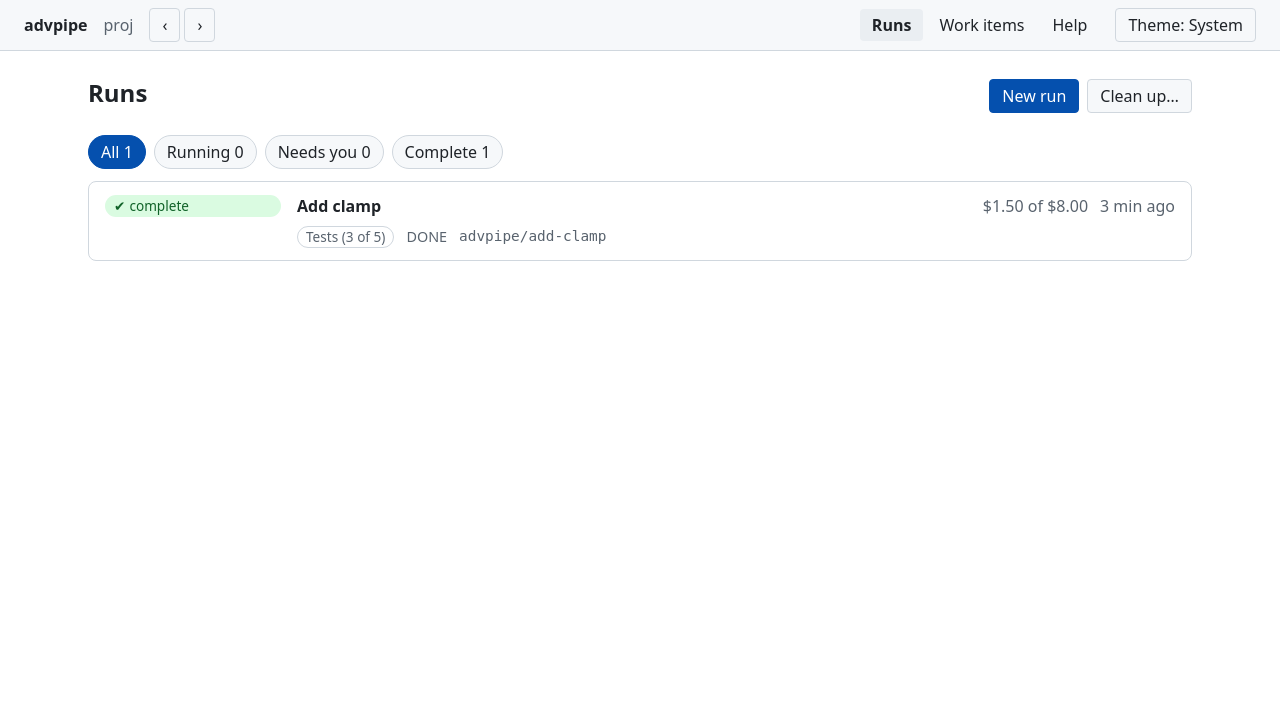
Test: run page › shows the header, timeline, round contents, report and next steps, and is accessible
The width and height of the screenshot is (1280, 720).
Click the link that starts with "complete".
click(193, 206)  # box [89,182,1191,260]
(page scrolled)
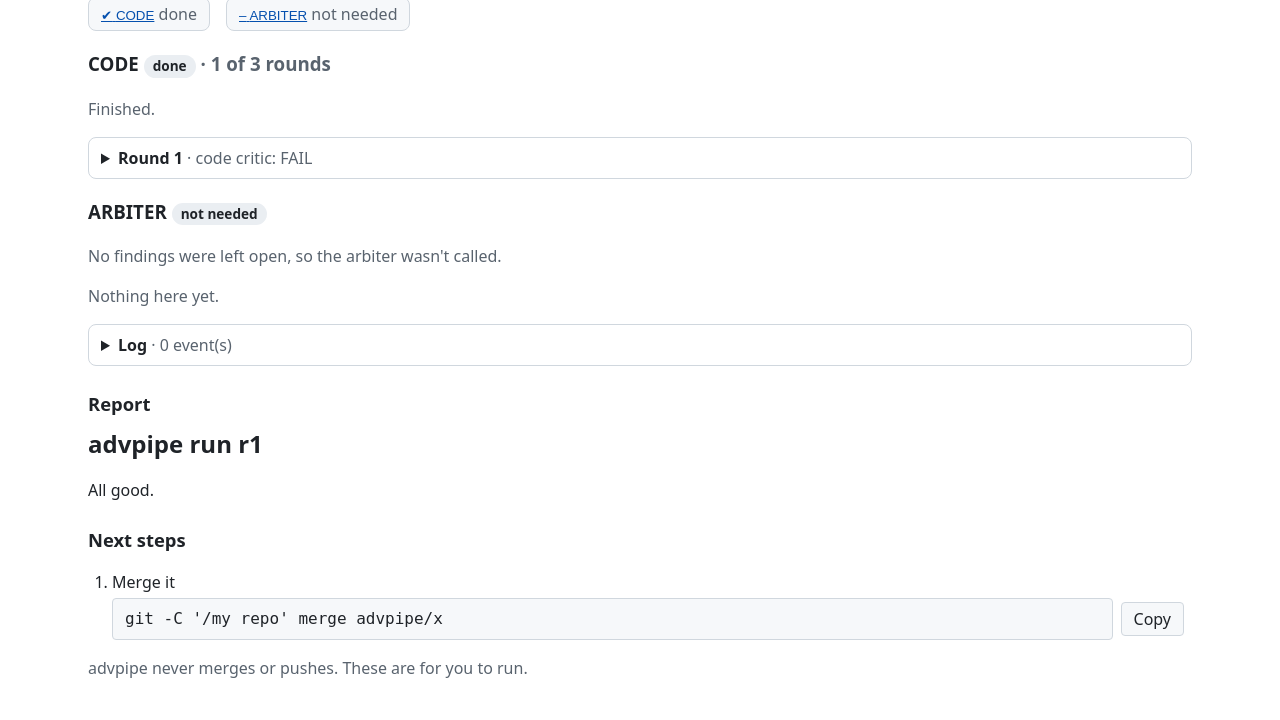
Check: the list with class "timeline-strip" shows "not needed", box [311,3,398,25]
Check: the text "· 1 of 3 rounds" is shown, box [196,51,331,76]
Check: the text "· code critic: FAIL" is shown, box [183,147,312,169]
